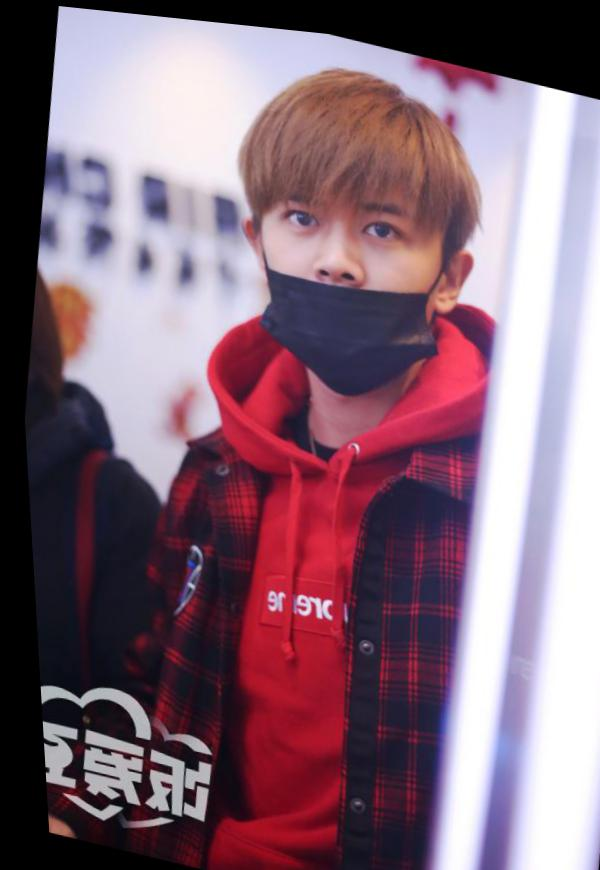WRONG: (241, 155, 458, 407)
